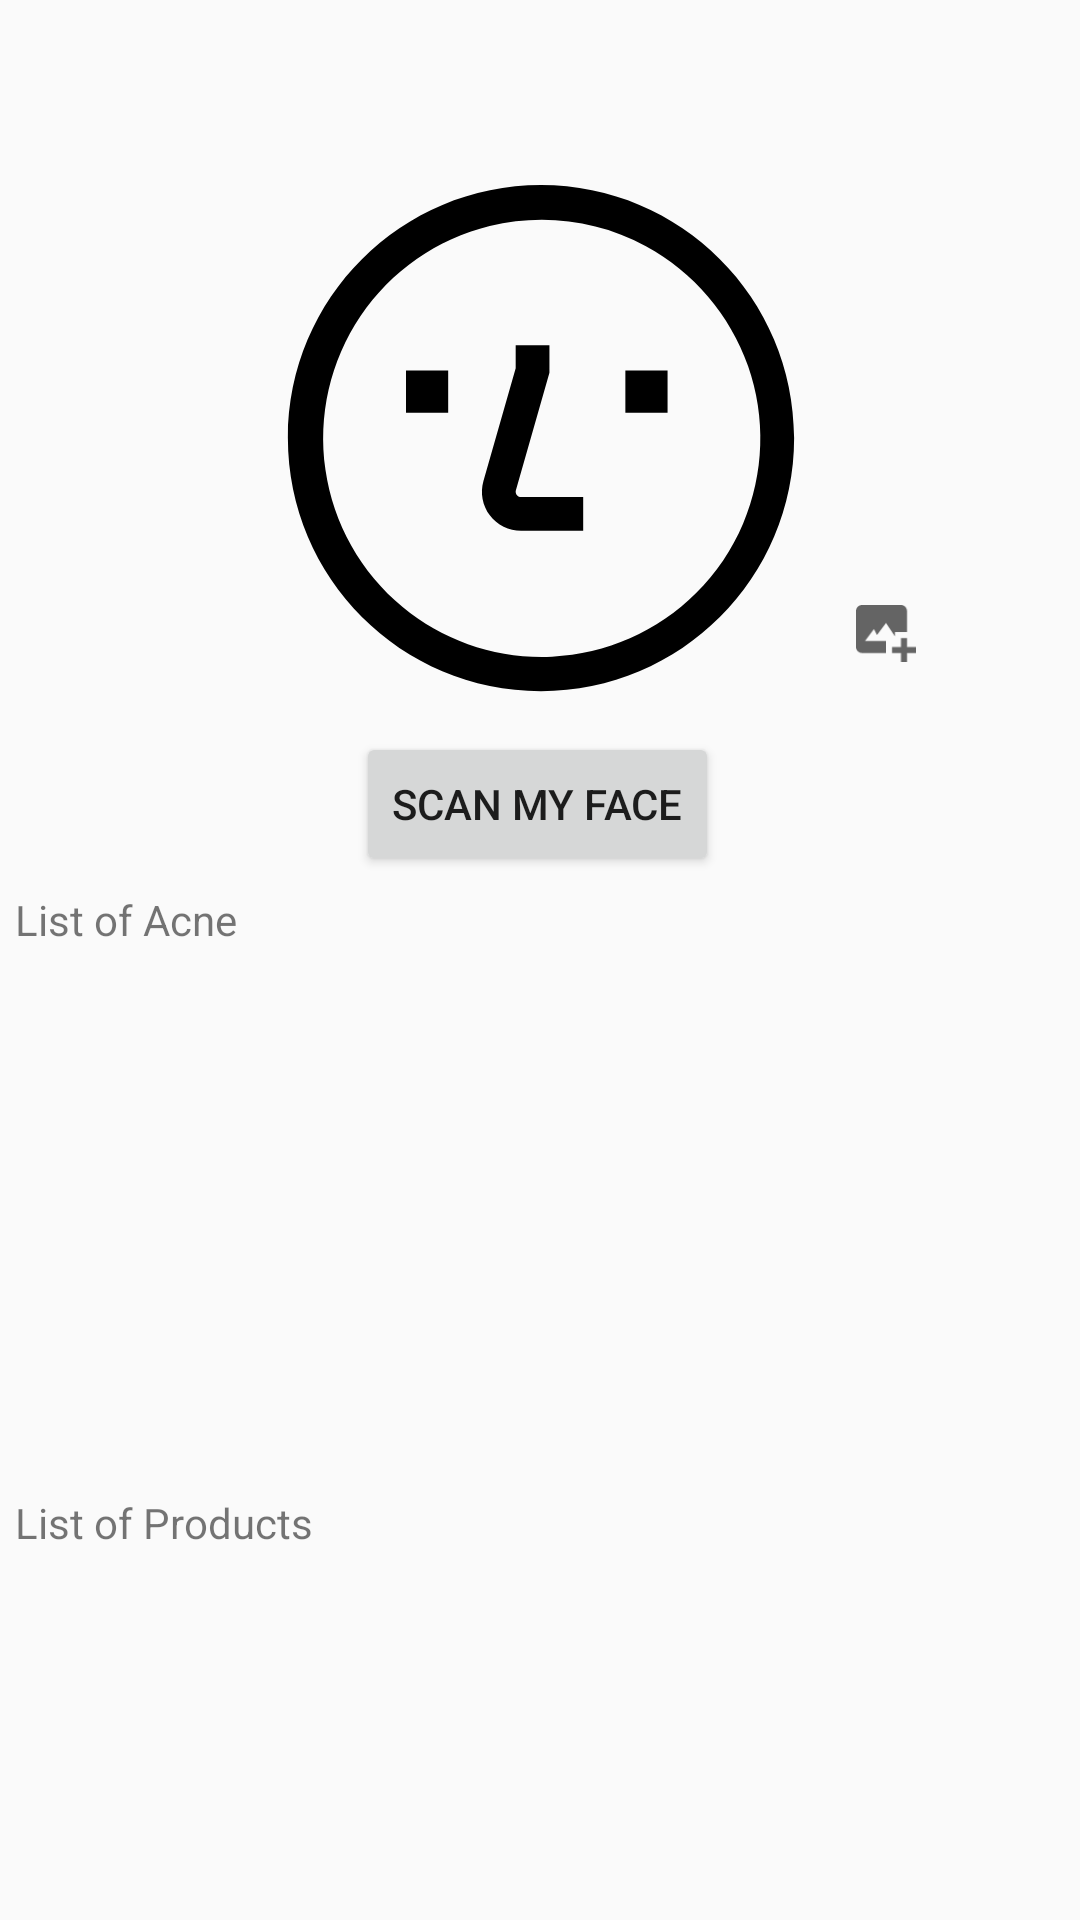

Screen size 1080*1920. Icon name, then its box in pixels as (x1, y1, x2, y2):
insert photo: (856, 605, 916, 662)
